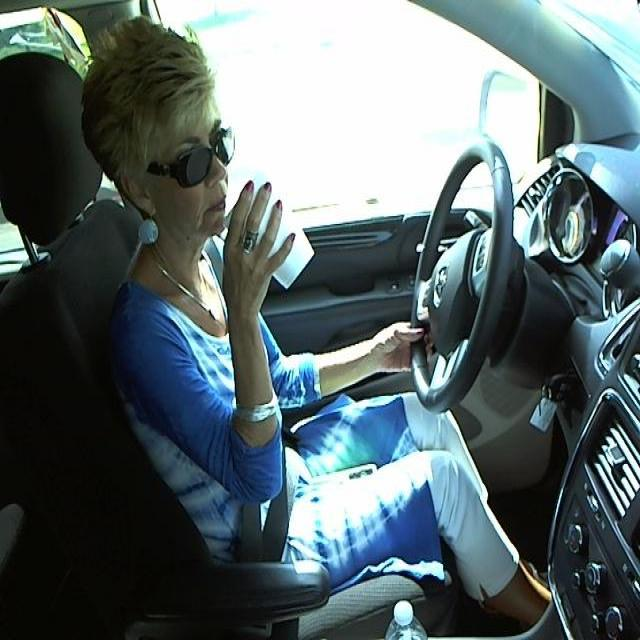drinking: (222, 167, 318, 290)
